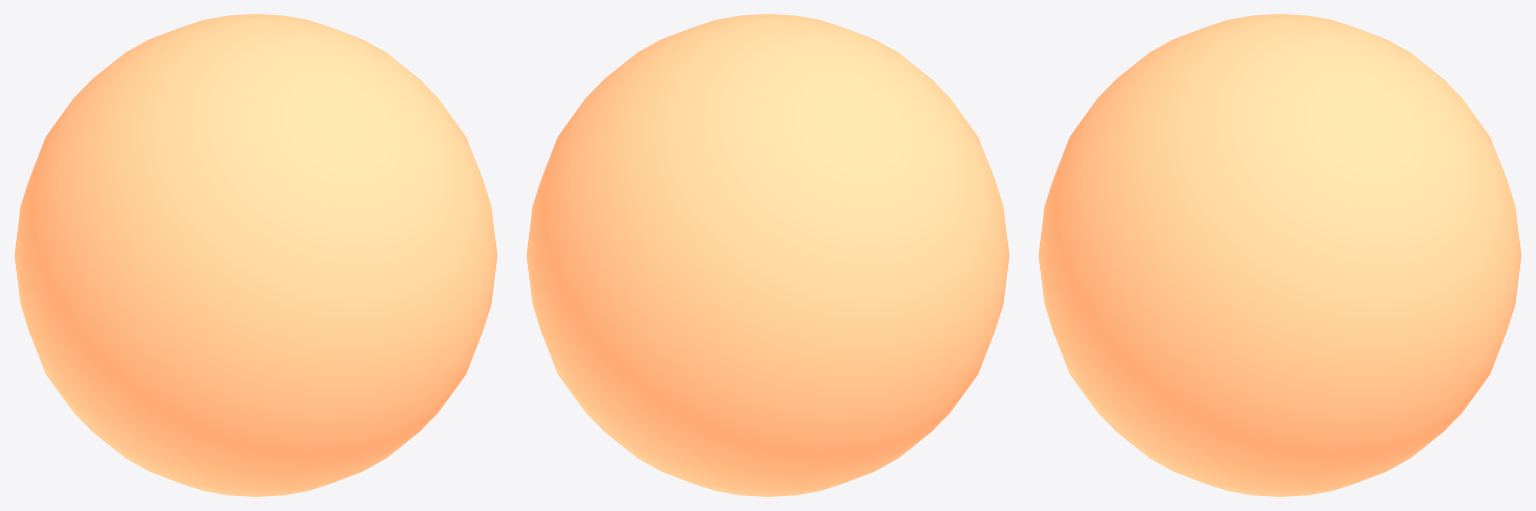
The model's file is mat-emissive.gltf.
The picture shows the model from 3 angles, left to right: view 1: azimuth 30°, elevation 25°; view 2: azimuth 150°, elevation 25°; view 3: azimuth 270°, elevation 25°; orthographic projection.
Size of the model in its own units: 2 by 2 by 2.
